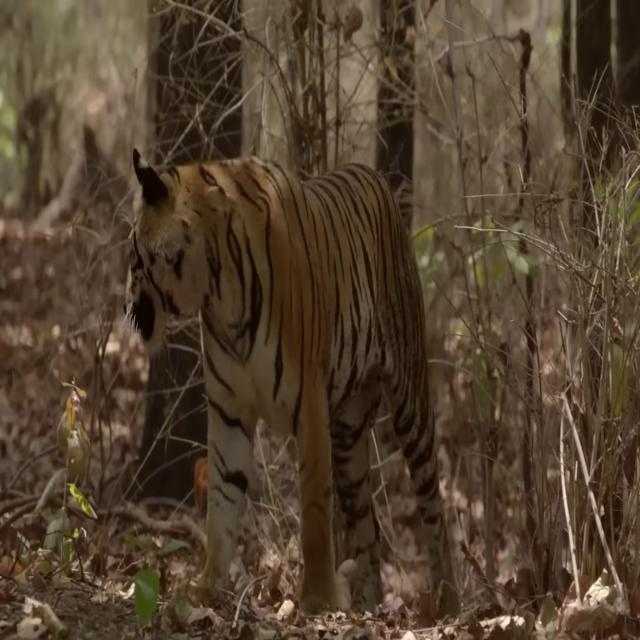tiger: (121, 146, 462, 618)
